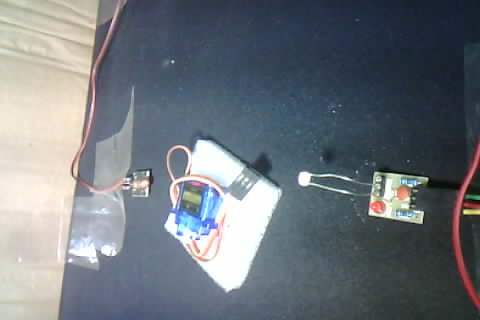motor: (158, 137, 279, 283)
